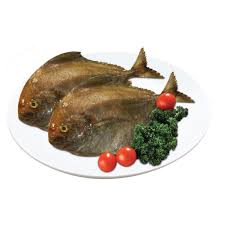Ikan Bawal: (47, 73, 199, 154), (13, 42, 157, 122)
